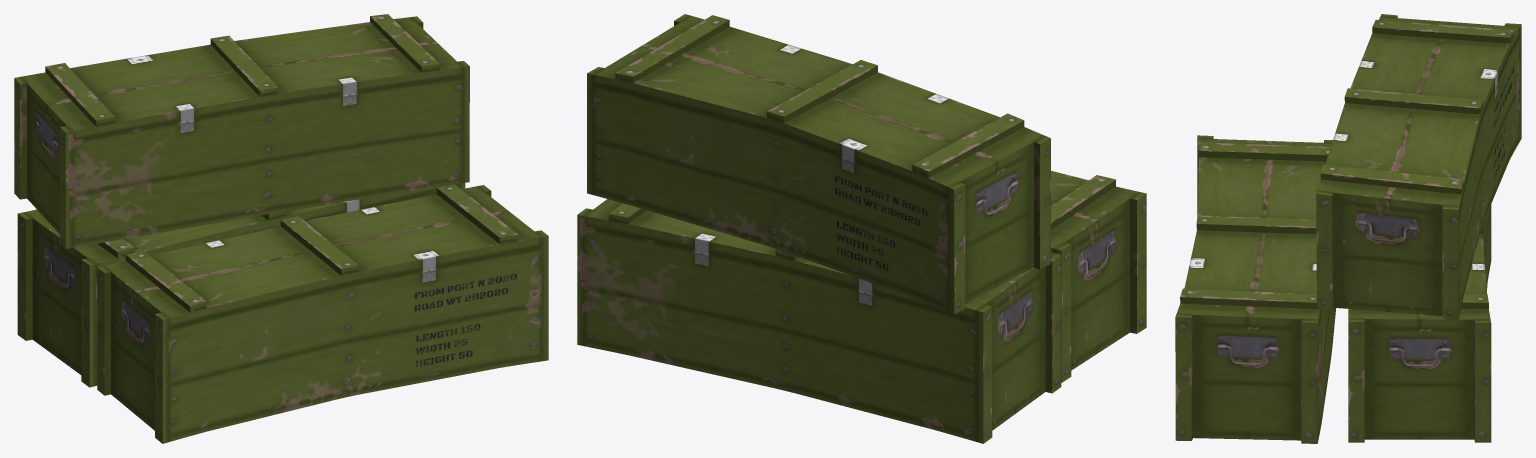
The model's file is Crate04_6.FBX.
3 views of the same model, side by side, from view 1: azimuth 30°, elevation 25°; view 2: azimuth 150°, elevation 25°; view 3: azimuth 270°, elevation 25° (orthographic). The views are drawn at different scales.
Visible parts, largest first — view 1: Crate04_6; view 2: Crate04_6; view 3: Crate04_6.
Part boxes in pixels (x1,y1,x2,y2): Crate04_6: (14,14,548,443); Crate04_6: (577,14,1146,443); Crate04_6: (1175,14,1521,443).
Size of what is drawn, in the model's own units: 1.56 by 0.9758 by 1.2.
